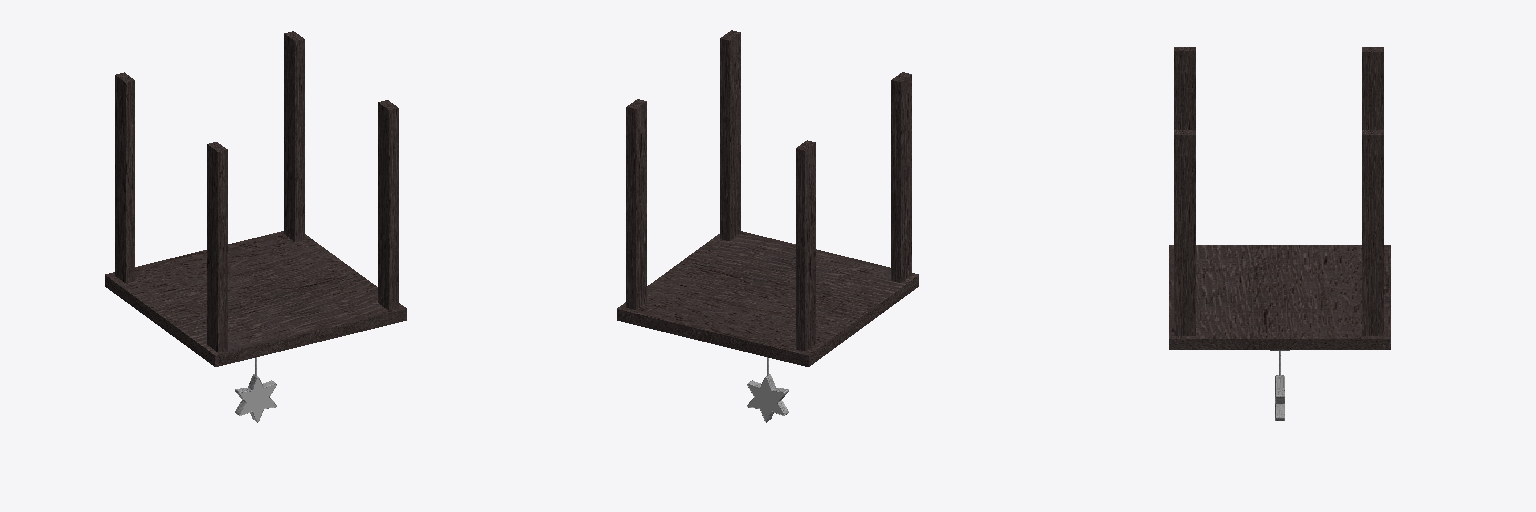
The picture shows the model from 3 angles: view 1: azimuth 30°, elevation 25°; view 2: azimuth 150°, elevation 25°; view 3: azimuth 270°, elevation 25°; orthographic projection.
Visible parts, largest first — view 1: Куб, Куб.003, Куб.004, Куб.002, Куб.001, Curve; view 2: Куб, Куб.002, Куб.003, Куб.004, Куб.001, Curve; view 3: Куб, Куб.002, Куб.003, Куб.001, Куб.004.
Boxes of the visible parts, box(x1,y1,x2,y2) form: Куб: box(105, 231, 406, 366); Куб.003: box(378, 100, 398, 310); Куб.004: box(207, 142, 227, 352); Куб.002: box(284, 31, 304, 241); Куб.001: box(115, 72, 134, 282); Curve: box(235, 374, 276, 422); Куб: box(617, 231, 918, 366); Куб.002: box(626, 99, 646, 309); Куб.003: box(720, 30, 740, 240); Куб.004: box(891, 72, 911, 282); Куб.001: box(796, 140, 815, 350); Curve: box(747, 374, 788, 422); Куб: box(1169, 245, 1390, 349); Куб.002: box(1362, 130, 1383, 335); Куб.003: box(1174, 130, 1195, 335); Куб.001: box(1362, 47, 1383, 129); Куб.004: box(1174, 47, 1195, 129).
Size of the model in its own units: 2 by 3.28 by 2.
Materials: 8 (2 with a texture image).